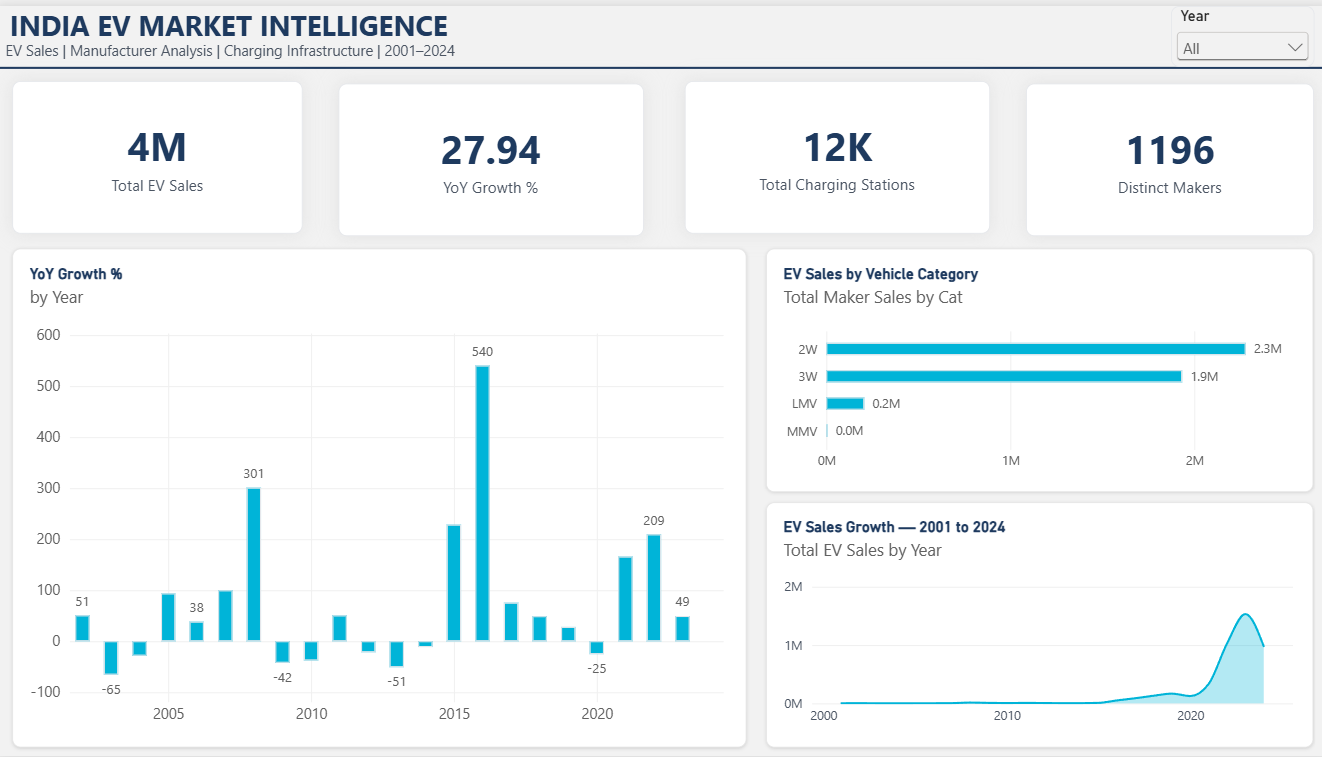

What the dashboard file says about the page in this screenshot:
{"tool":"powerbi","page":{"name":"EV Market Overview","canvas":[1280,720],"ordinal":0},"visuals":[{"type":"textbox","box":[0,0,446.2,42.5],"z":0},{"type":"textbox","box":[6.2,27.5,435,31.2],"z":1000},{"type":"shape","box":[0,0,1280,118.7],"z":2000},{"type":"card","fields":{"Values":["FactEVSales.Total EV Sales"]},"box":[15,72.5,278.8,146.2],"z":3000},{"type":"card","fields":{"Values":["FactEVSales.YoY Growth %"]},"box":[328.8,73.8,292.4,146.2],"z":4000},{"type":"card","fields":{"Values":["FactCharging.Total Charging Stations"]},"box":[660,72.5,292.4,146.2],"z":5000},{"type":"card","fields":{"Values":["FactMakerSales.Distinct Makers"]},"box":[987.5,73.8,276.2,146.2],"z":6000},{"type":"areaChart","title":"EV Sales Growth — 2001 to 2024","fields":{"Y":["FactEVSales.Total EV Sales"],"Category":["DimDate.Year"]},"box":[738.8,476.2,525,235],"z":7000},{"type":"clusteredBarChart","title":"EV Sales by Vehicle Category","fields":{"Category":["FactMakerSales.Cat"],"Y":["FactMakerSales.Total Maker Sales"]},"box":[738.8,232.5,525,233.8],"z":8000},{"type":"clusteredColumnChart","fields":{"Category":["DimDate.Year"],"Y":["FactEVSales.YoY Growth %"]},"box":[15,232.5,703.8,478.8],"z":9000},{"type":"slicer","fields":{"Values":["DimDate.Year"]},"box":[1126.2,0,137.5,58.8],"z":10000}]}

Visuals, with their boxes in screenshot pixels (x1, y1, x2, y2), scaled from the page's 1280x720 canvas onto the 1322x757 screenshot:
textbox: box=[0, 0, 461, 45]
textbox: box=[6, 29, 456, 62]
shape: box=[0, 0, 1321, 125]
card - FactEVSales.Total EV Sales: box=[15, 76, 303, 230]
card - FactEVSales.YoY Growth %: box=[340, 78, 642, 231]
card - FactCharging.Total Charging Stations: box=[682, 76, 984, 230]
card - FactMakerSales.Distinct Makers: box=[1020, 78, 1305, 231]
"EV Sales Growth — 2001 to 2024" areaChart: box=[763, 501, 1305, 748]
"EV Sales by Vehicle Category" clusteredBarChart: box=[763, 244, 1305, 490]
clusteredColumnChart - DimDate.Year x FactEVSales.YoY Growth %: box=[15, 244, 742, 748]
slicer - DimDate.Year: box=[1163, 0, 1305, 62]
